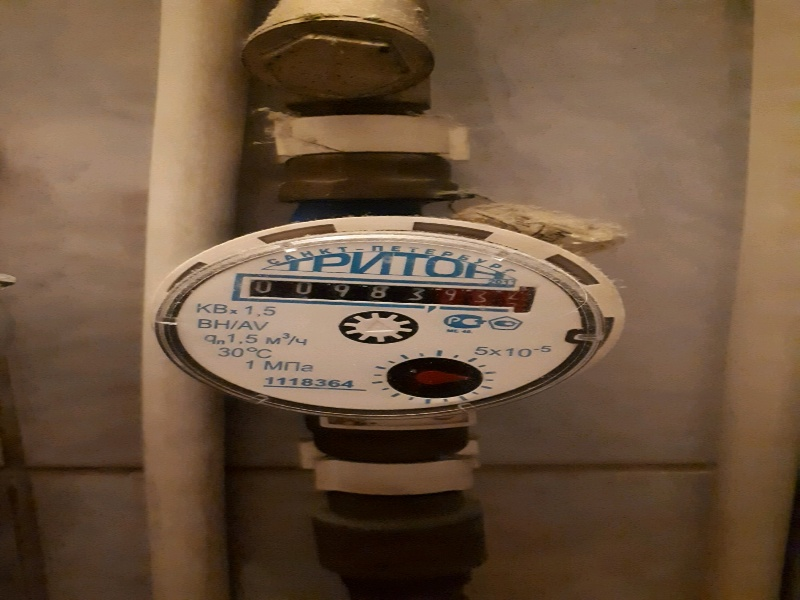dial: (241, 272, 532, 322)
